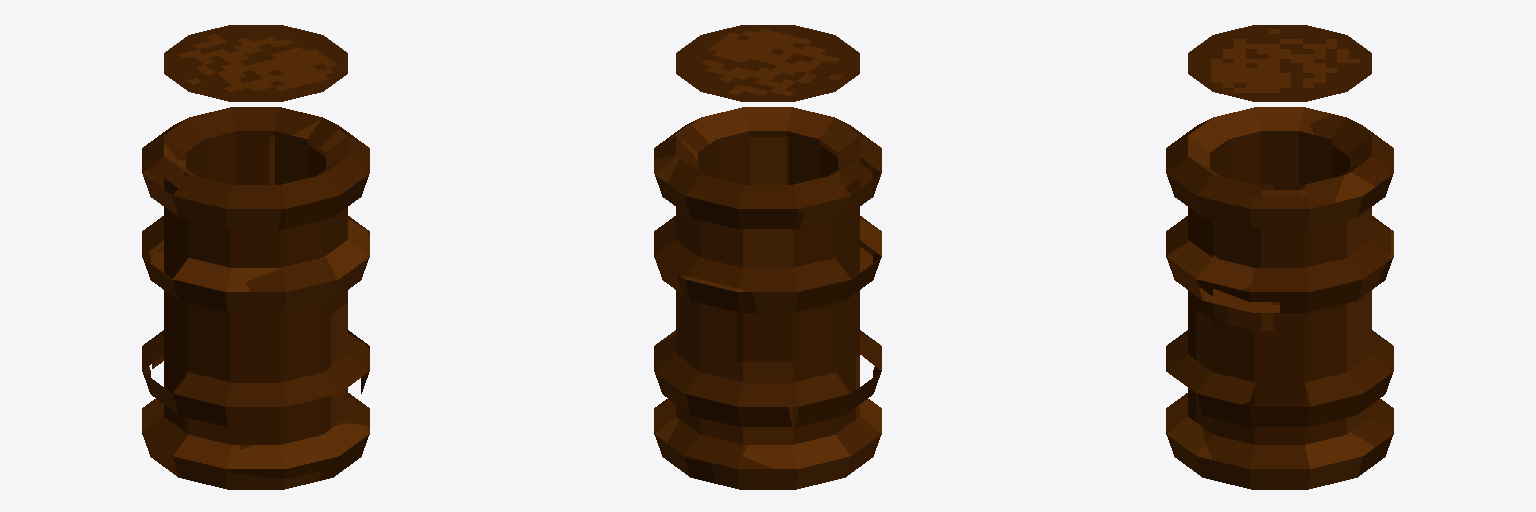
3 renders of one model, left to right at view 1: azimuth 30°, elevation 25°; view 2: azimuth 150°, elevation 25°; view 3: azimuth 270°, elevation 25°, orthographic.
Visible parts, largest first — view 1: circle; view 2: circle; view 3: circle.
Boxes of the visible parts, box(x1,y1,x2,y2) form: circle: box(142, 25, 369, 489); circle: box(654, 25, 881, 489); circle: box(1166, 25, 1393, 489).
Bounding box in the file's own units: 1.24 × 2.31 × 1.24.
Materials: 2 (1 with a texture image).